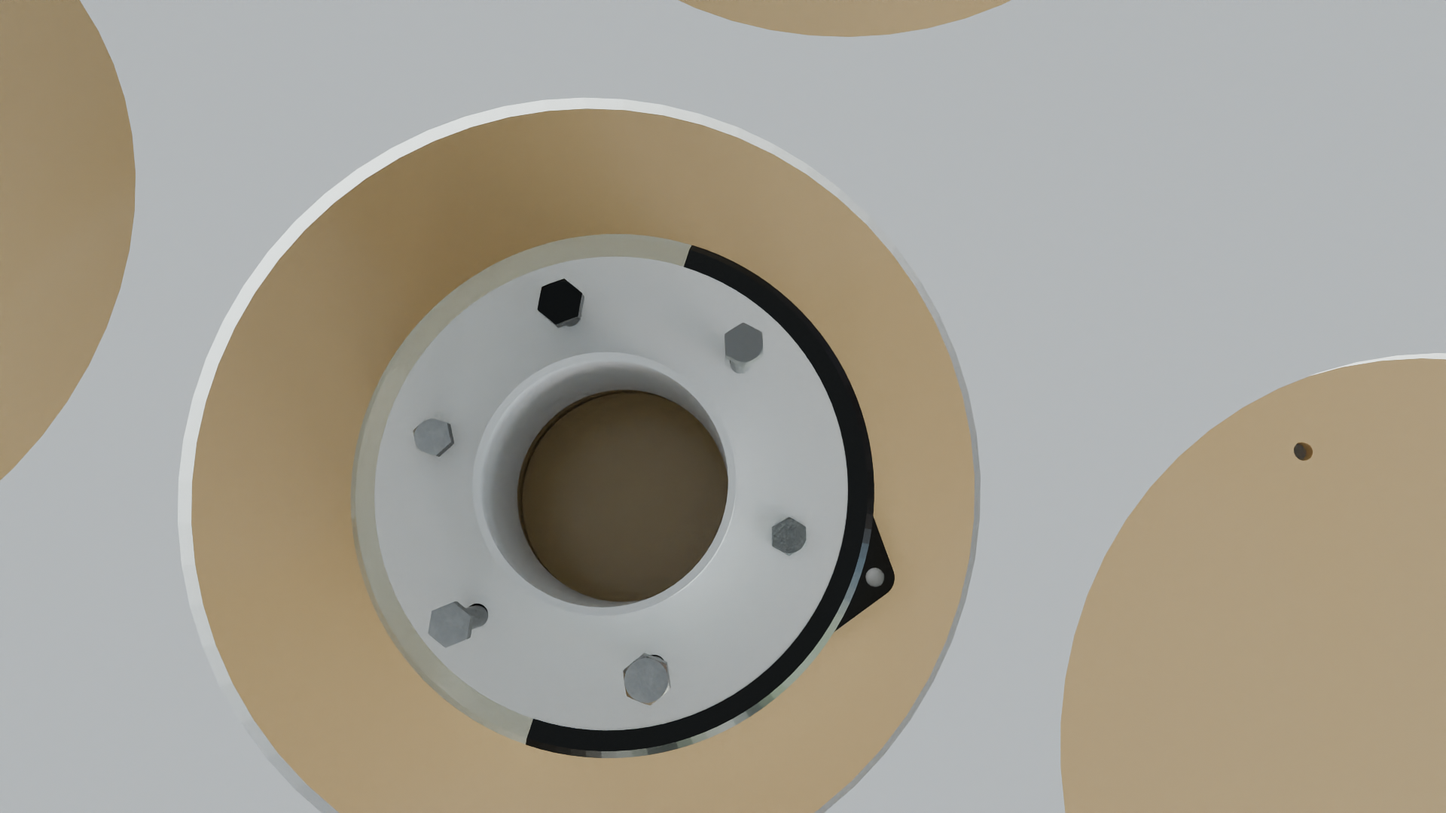bolt: (623, 654, 670, 705), (537, 279, 582, 324), (428, 602, 471, 648), (725, 322, 764, 365), (413, 417, 451, 456), (772, 517, 807, 556)
